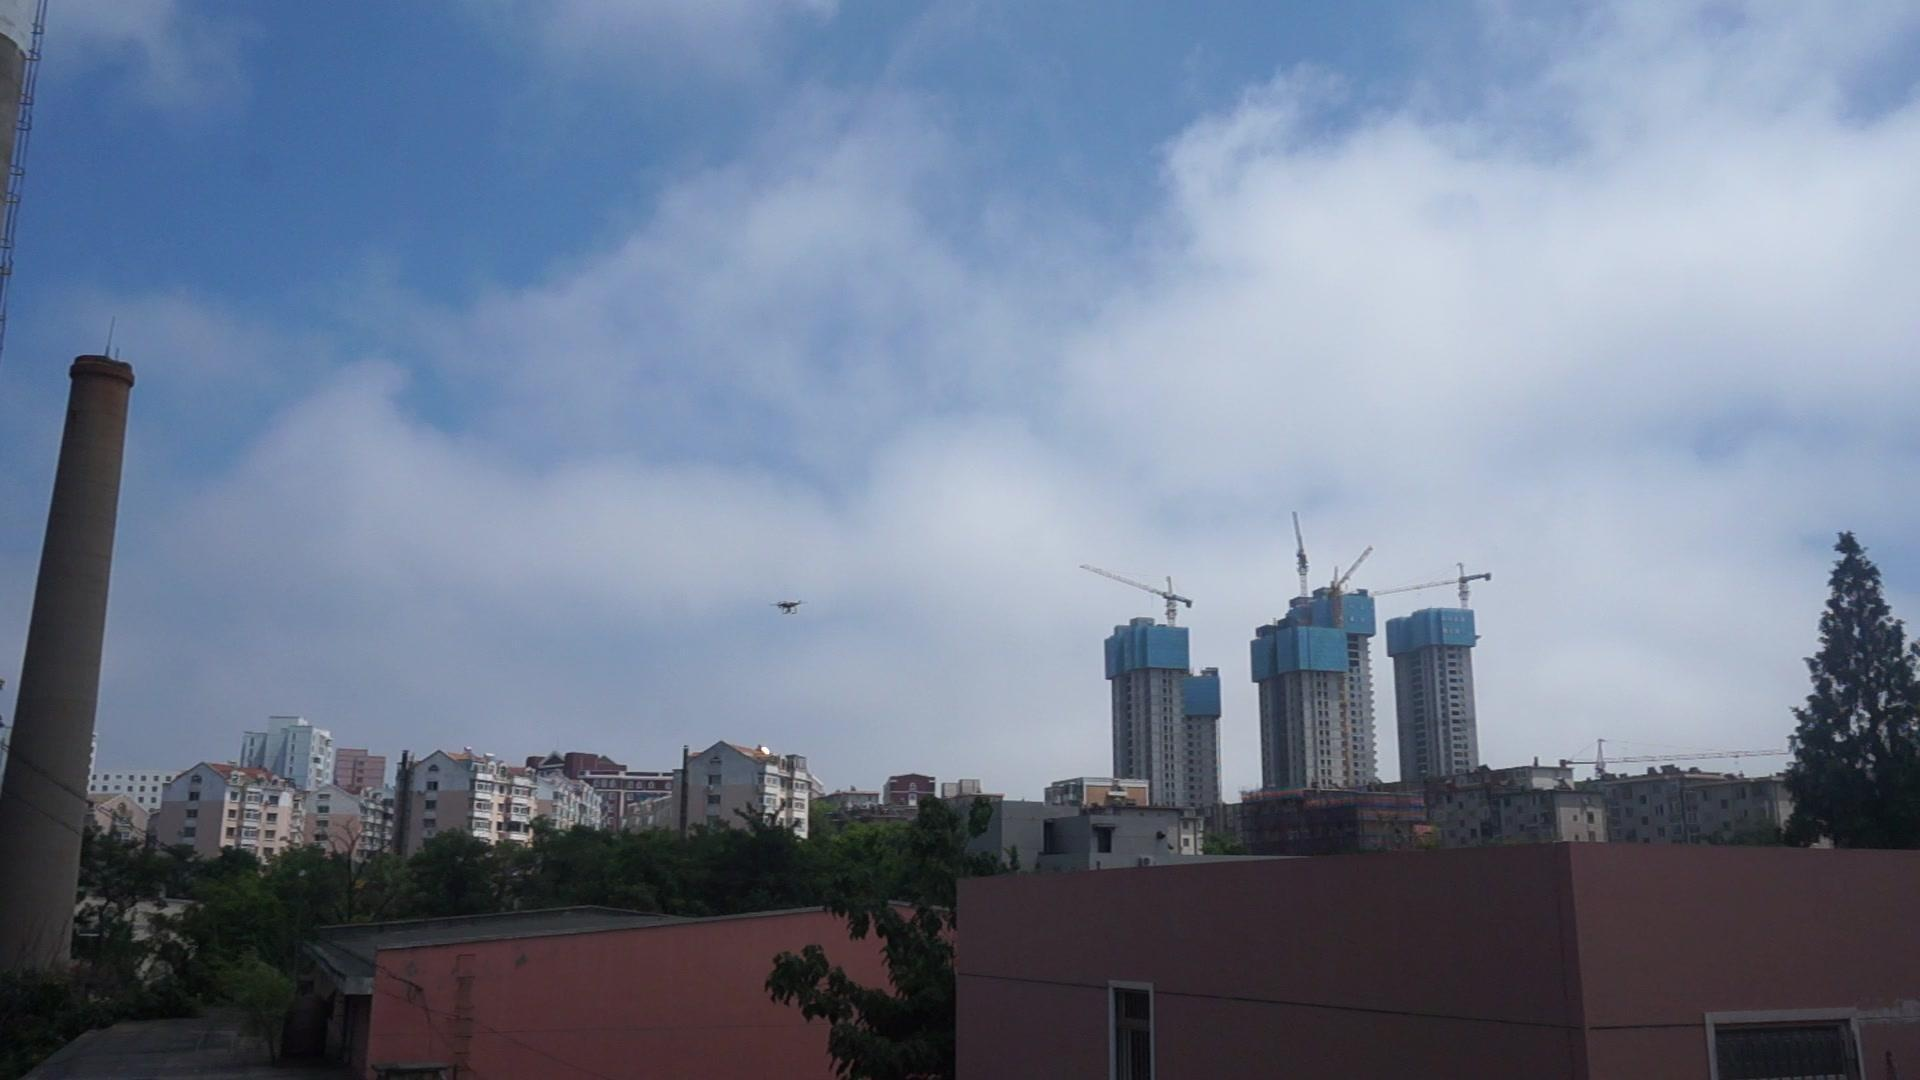UAV: (767, 600, 808, 615)
